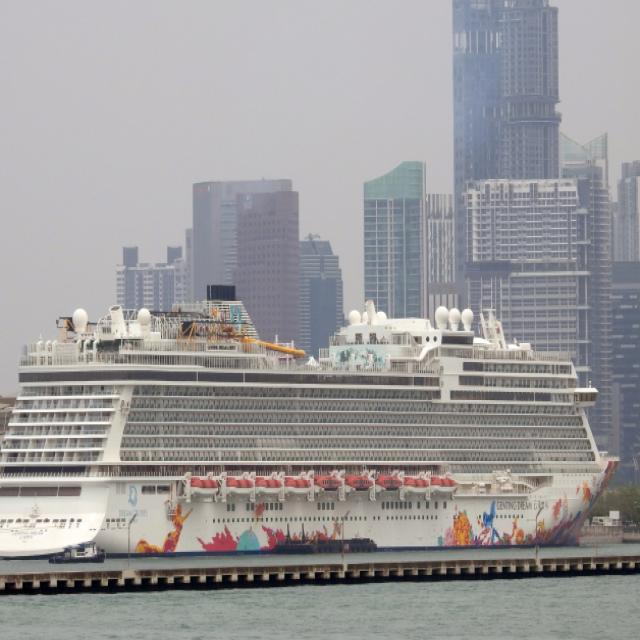cruises: (1, 278, 623, 569)
